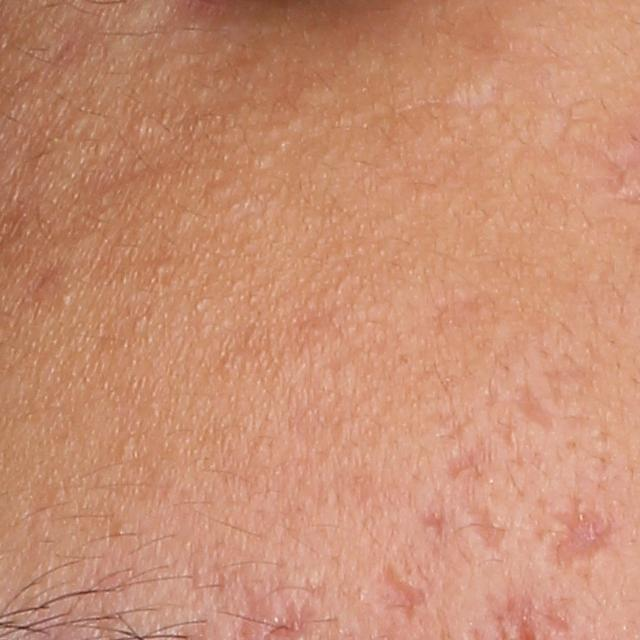atrophic_scar: (547, 495, 616, 577), (361, 554, 433, 622), (456, 498, 510, 554), (507, 382, 558, 432), (442, 439, 495, 483), (418, 506, 456, 546)
comedo: (54, 290, 74, 310)
